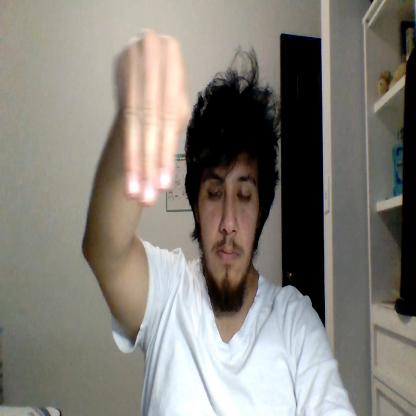M: (114, 30, 190, 207)
